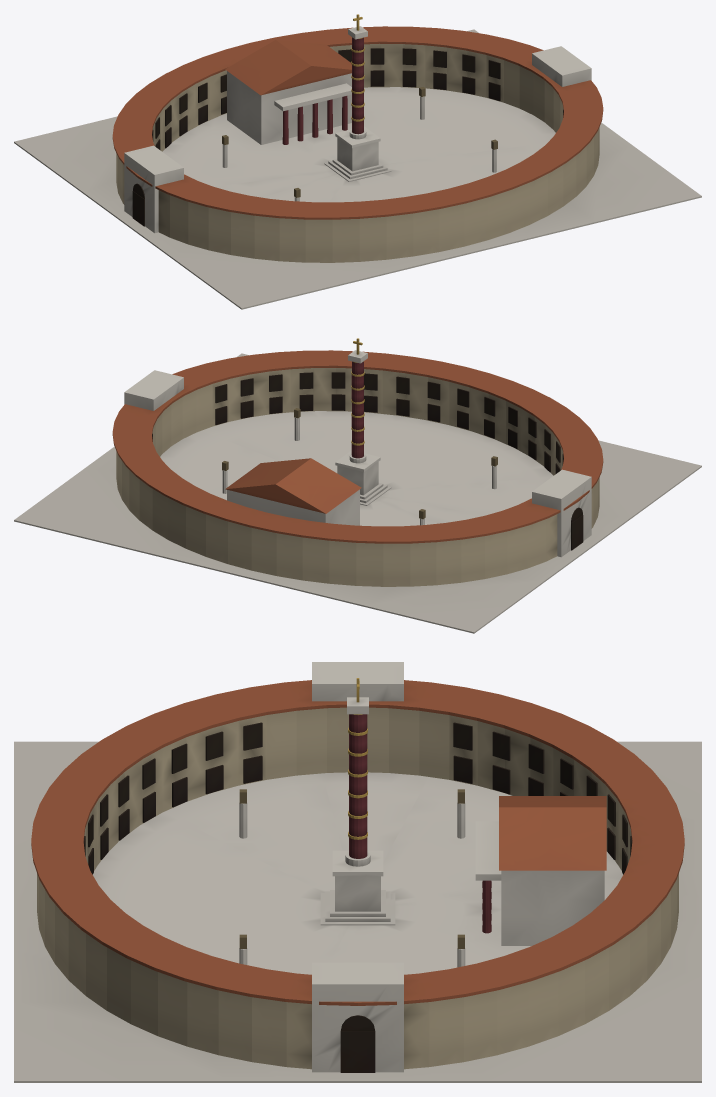
File: forum-of-constantine-1150.glb
3 renders of one model, top to bottom at view 1: azimuth 30°, elevation 25°; view 2: azimuth 150°, elevation 25°; view 3: azimuth 270°, elevation 25°, orthographic. The views are drawn at different scales.
Parts seen in each view (by area): view 1: p0_colonnades, p1_arches, p2_column; view 2: p0_colonnades, p1_arches, p2_column; view 3: p0_colonnades, p1_arches, p2_column.
Part boxes in pixels (x1,y1,x2,y2): p0_colonnades: (14, 26, 701, 309); p1_arches: (124, 40, 591, 233); p2_column: (324, 14, 391, 181); p0_colonnades: (14, 350, 701, 633); p1_arches: (124, 370, 591, 557); p2_column: (335, 338, 391, 505); p0_colonnades: (14, 680, 701, 1082); p1_arches: (239, 662, 606, 1072); p2_column: (320, 678, 395, 925).
Bounding box in the file's own units: 140 × 45.2 × 120.
